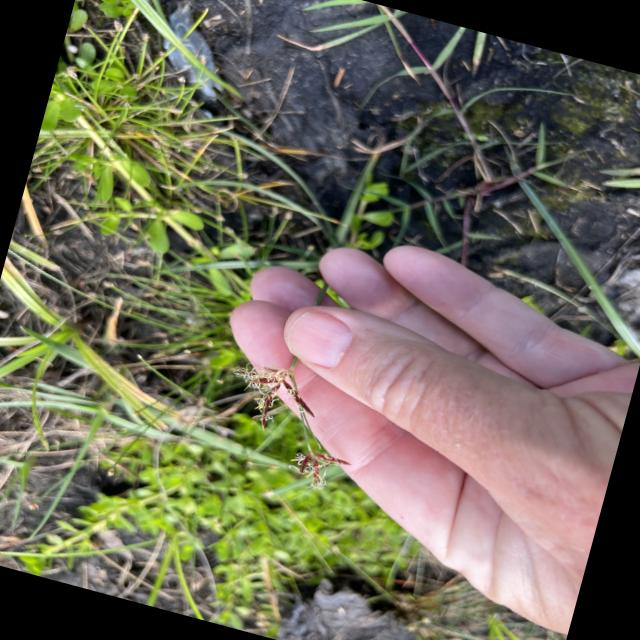cyperus: (207, 348, 366, 499)
